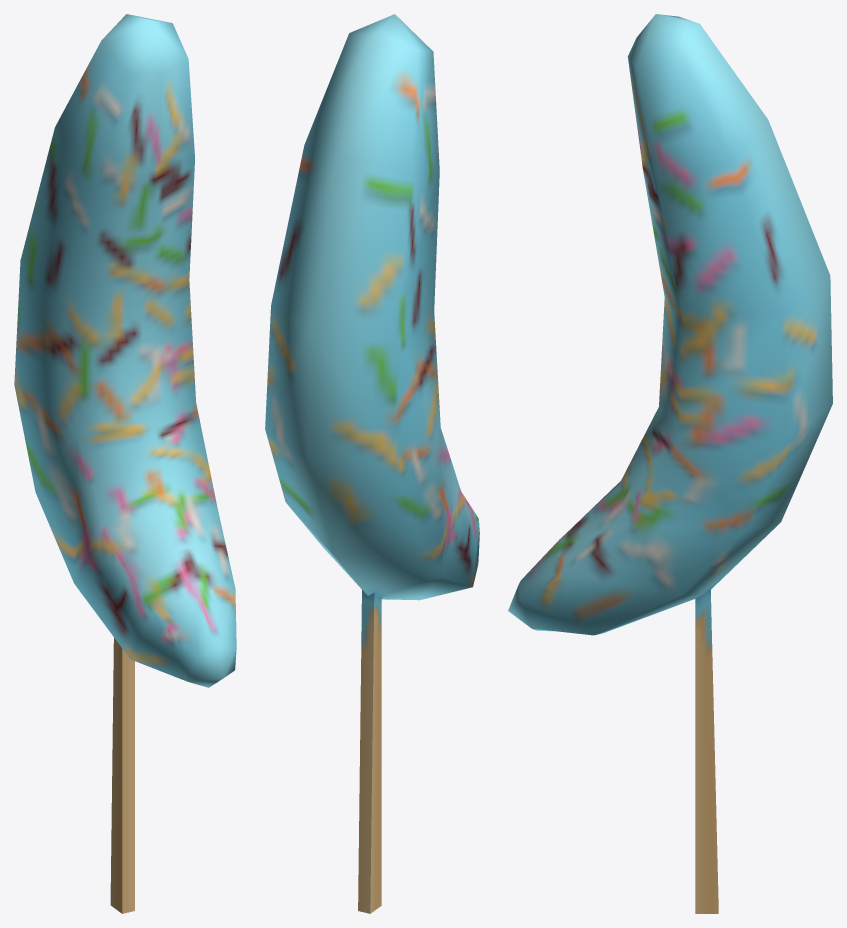
File: jsf_ChocolateBanana_a02_c03.fbx
3 renders of one model, left to right at view 1: azimuth 30°, elevation 25°; view 2: azimuth 150°, elevation 25°; view 3: azimuth 270°, elevation 25°, orthographic. The views are drawn at different scales.
Parts seen in each view (by area): view 1: jsf_ChocolateBanana_a02_c03; view 2: jsf_ChocolateBanana_a02_c03; view 3: jsf_ChocolateBanana_a02_c03.
Boxes of the visible parts, <box> form: jsf_ChocolateBanana_a02_c03: <box>14,14,236,913</box>; jsf_ChocolateBanana_a02_c03: <box>265,14,479,913</box>; jsf_ChocolateBanana_a02_c03: <box>508,14,832,913</box>.
Bounding box in the file's own units: 3.73 × 23.83 × 7.83.
